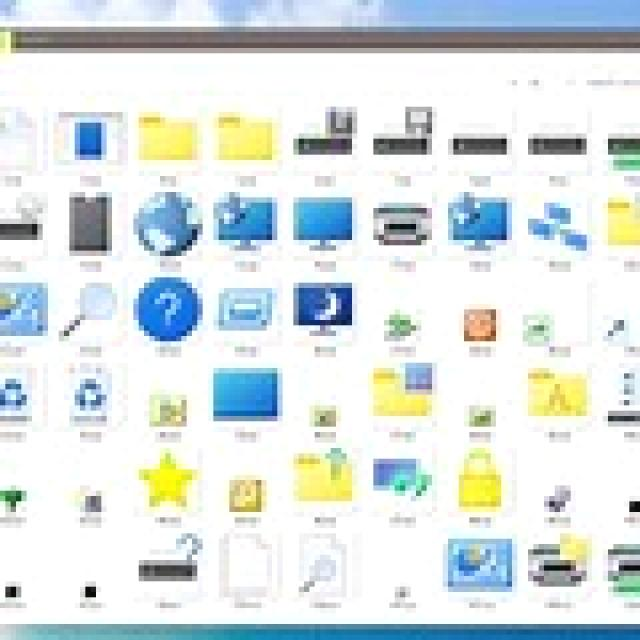icon: (285, 521, 379, 598), (520, 176, 596, 264), (66, 348, 130, 452), (212, 524, 280, 620), (130, 268, 210, 348), (518, 351, 601, 426), (50, 100, 128, 179), (130, 172, 200, 260), (520, 275, 594, 356), (54, 273, 128, 351), (132, 441, 206, 518), (207, 353, 286, 423), (452, 437, 519, 518), (287, 94, 366, 161), (530, 521, 592, 606), (131, 102, 210, 168), (533, 450, 603, 524), (447, 526, 521, 592), (131, 523, 208, 586), (212, 102, 282, 170), (368, 351, 437, 419), (213, 280, 284, 346), (447, 180, 508, 256), (0, 350, 48, 445), (212, 187, 280, 254), (291, 273, 359, 340), (289, 186, 357, 252), (0, 96, 48, 185), (294, 441, 359, 506), (63, 185, 117, 262), (371, 98, 435, 160), (0, 271, 51, 338), (370, 448, 437, 498), (592, 528, 640, 597), (371, 195, 433, 248), (1, 186, 46, 252), (602, 181, 640, 255), (603, 279, 640, 349), (62, 476, 105, 531), (221, 468, 266, 520), (385, 297, 424, 356), (448, 122, 510, 158), (607, 361, 640, 427), (599, 124, 640, 177), (462, 398, 511, 438), (524, 130, 592, 156), (146, 385, 186, 429), (459, 303, 506, 338), (0, 476, 27, 533), (391, 573, 428, 608), (76, 573, 107, 604), (314, 396, 334, 442), (0, 565, 21, 607), (618, 479, 640, 517)
